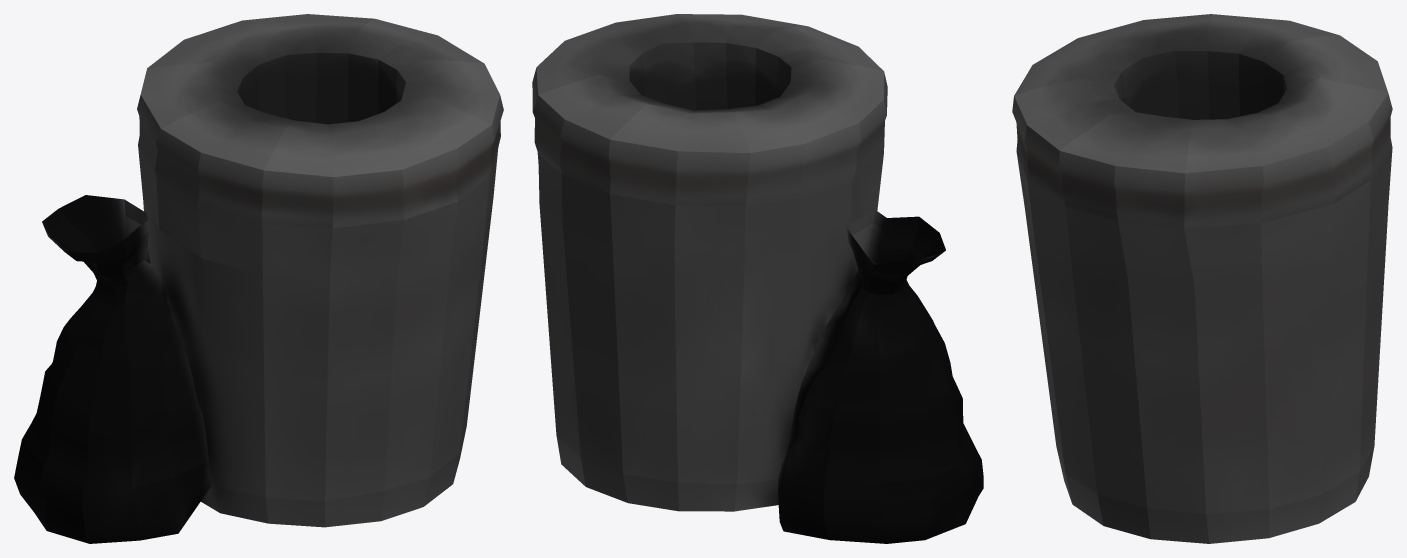
Rendered from BASURA.fbx.
3 renders of one model, left to right at view 1: azimuth 30°, elevation 25°; view 2: azimuth 150°, elevation 25°; view 3: azimuth 270°, elevation 25°, orthographic. The views are drawn at different scales.
Visible parts, largest first — view 1: basura2:polySurface6; view 2: basura2:polySurface6; view 3: basura2:polySurface6.
Boxes of the visible parts, x1,y1,x2,y2 form: basura2:polySurface6: (14,14,503,543); basura2:polySurface6: (532,14,983,543); basura2:polySurface6: (1012,14,1392,543).
Bounding box in the file's own units: 2.7 × 2.37 × 1.99.
